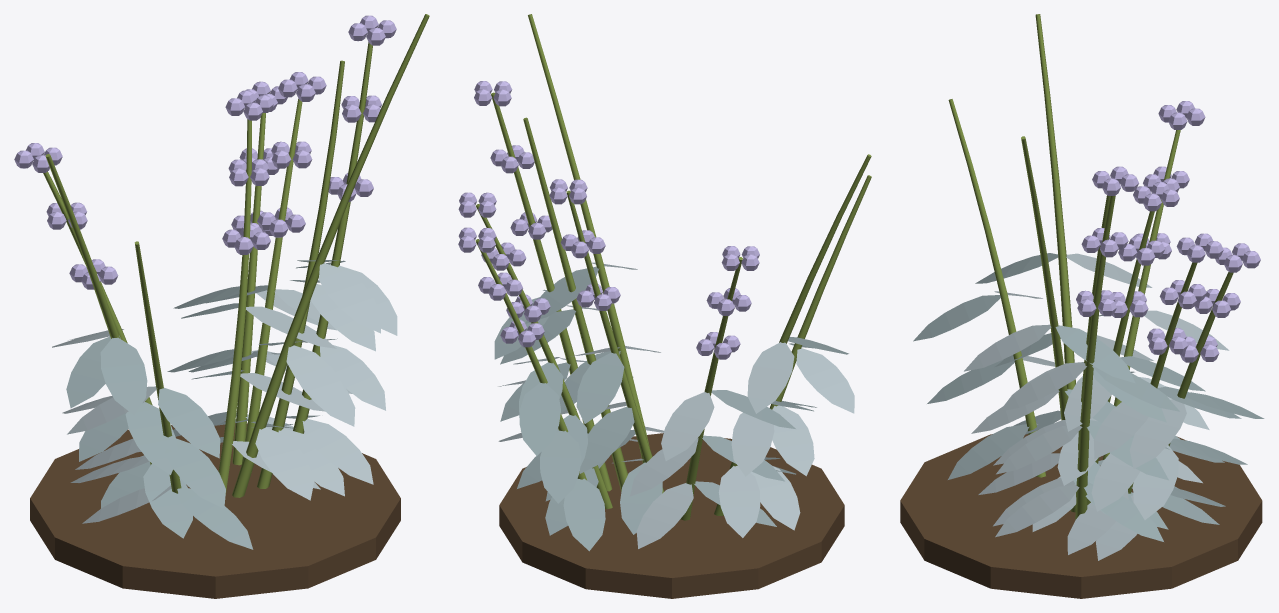
Rendered from mondsalbei.glb.
3 views of the same model, side by side, from view 1: azimuth 30°, elevation 25°; view 2: azimuth 150°, elevation 25°; view 3: azimuth 270°, elevation 25° (orthographic). The views are drawn at different scales.
Visible parts, largest first — view 1: mondsalbei; view 2: mondsalbei; view 3: mondsalbei.
Boxes of the visible parts, bbox=[...] form: mondsalbei: bbox=[14, 14, 429, 598]; mondsalbei: bbox=[458, 14, 871, 598]; mondsalbei: bbox=[900, 14, 1264, 598].
Size of the model in its own units: 0.3606 by 0.4317 by 0.302.
